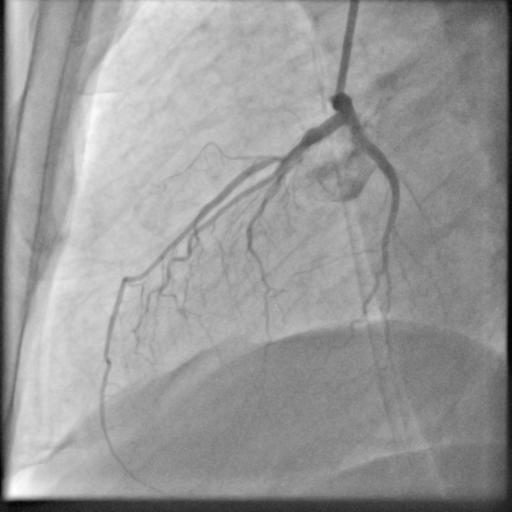Stenosis: (282, 138, 306, 164)
